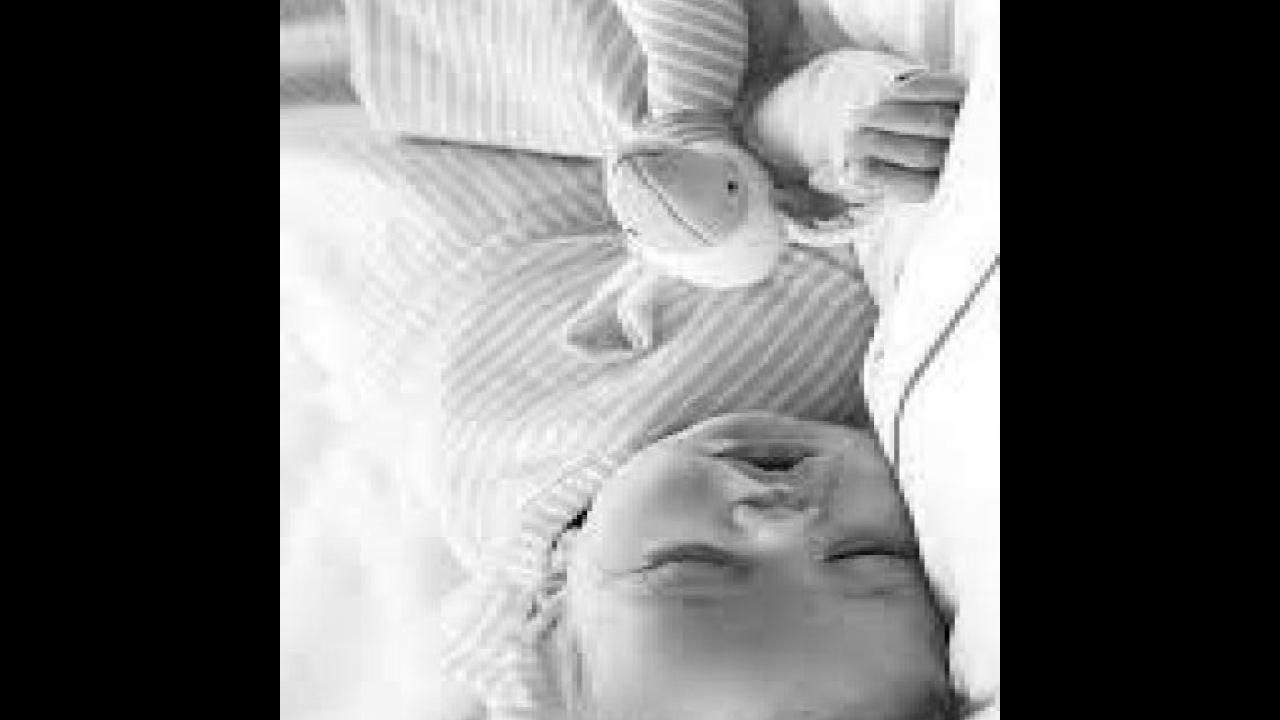hand: (834, 52, 974, 211)
